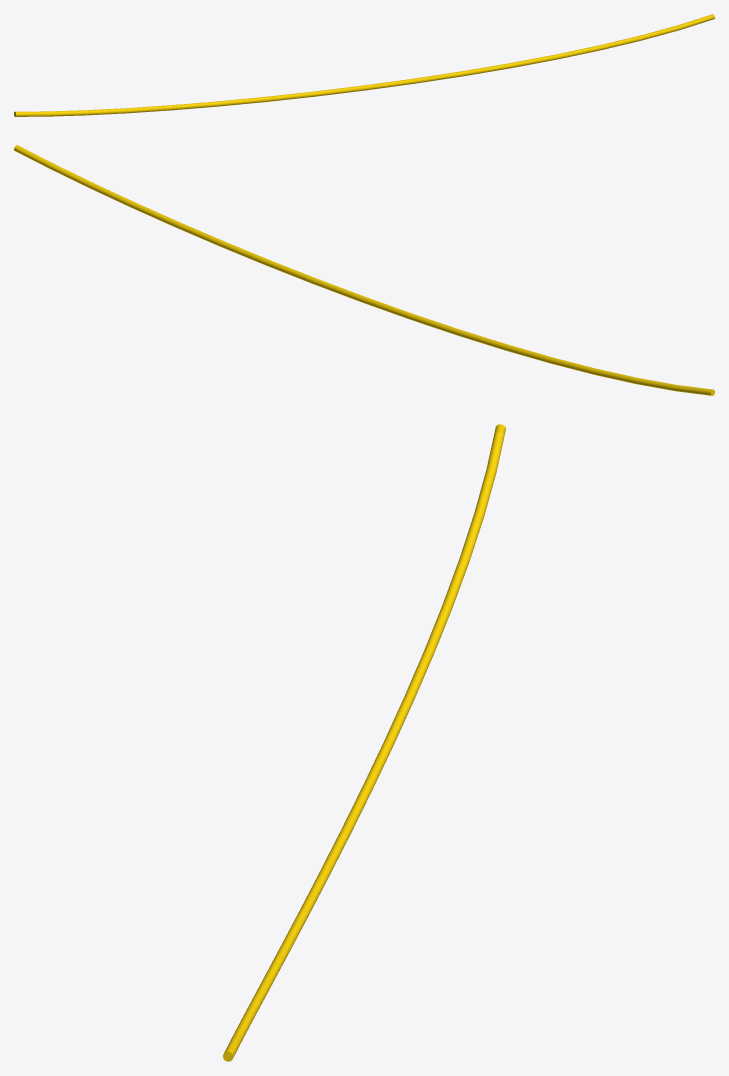
Rendered from Event_421115418_track_156.fbx.
3 renders of one model, top to bottom at view 1: azimuth 30°, elevation 25°; view 2: azimuth 150°, elevation 25°; view 3: azimuth 270°, elevation 25°, orthographic. The views are drawn at different scales.
Visible parts, largest first — view 1: Model; view 2: Model; view 3: Model.
Boxes of the visible parts, left/top/right/bottom form: Model: left=14, top=14, right=714, bottom=116; Model: left=14, top=145, right=714, bottom=395; Model: left=223, top=424, right=505, bottom=1061.
Bounding box in the file's own units: 5.56 × 0.2612 × 1.08.
